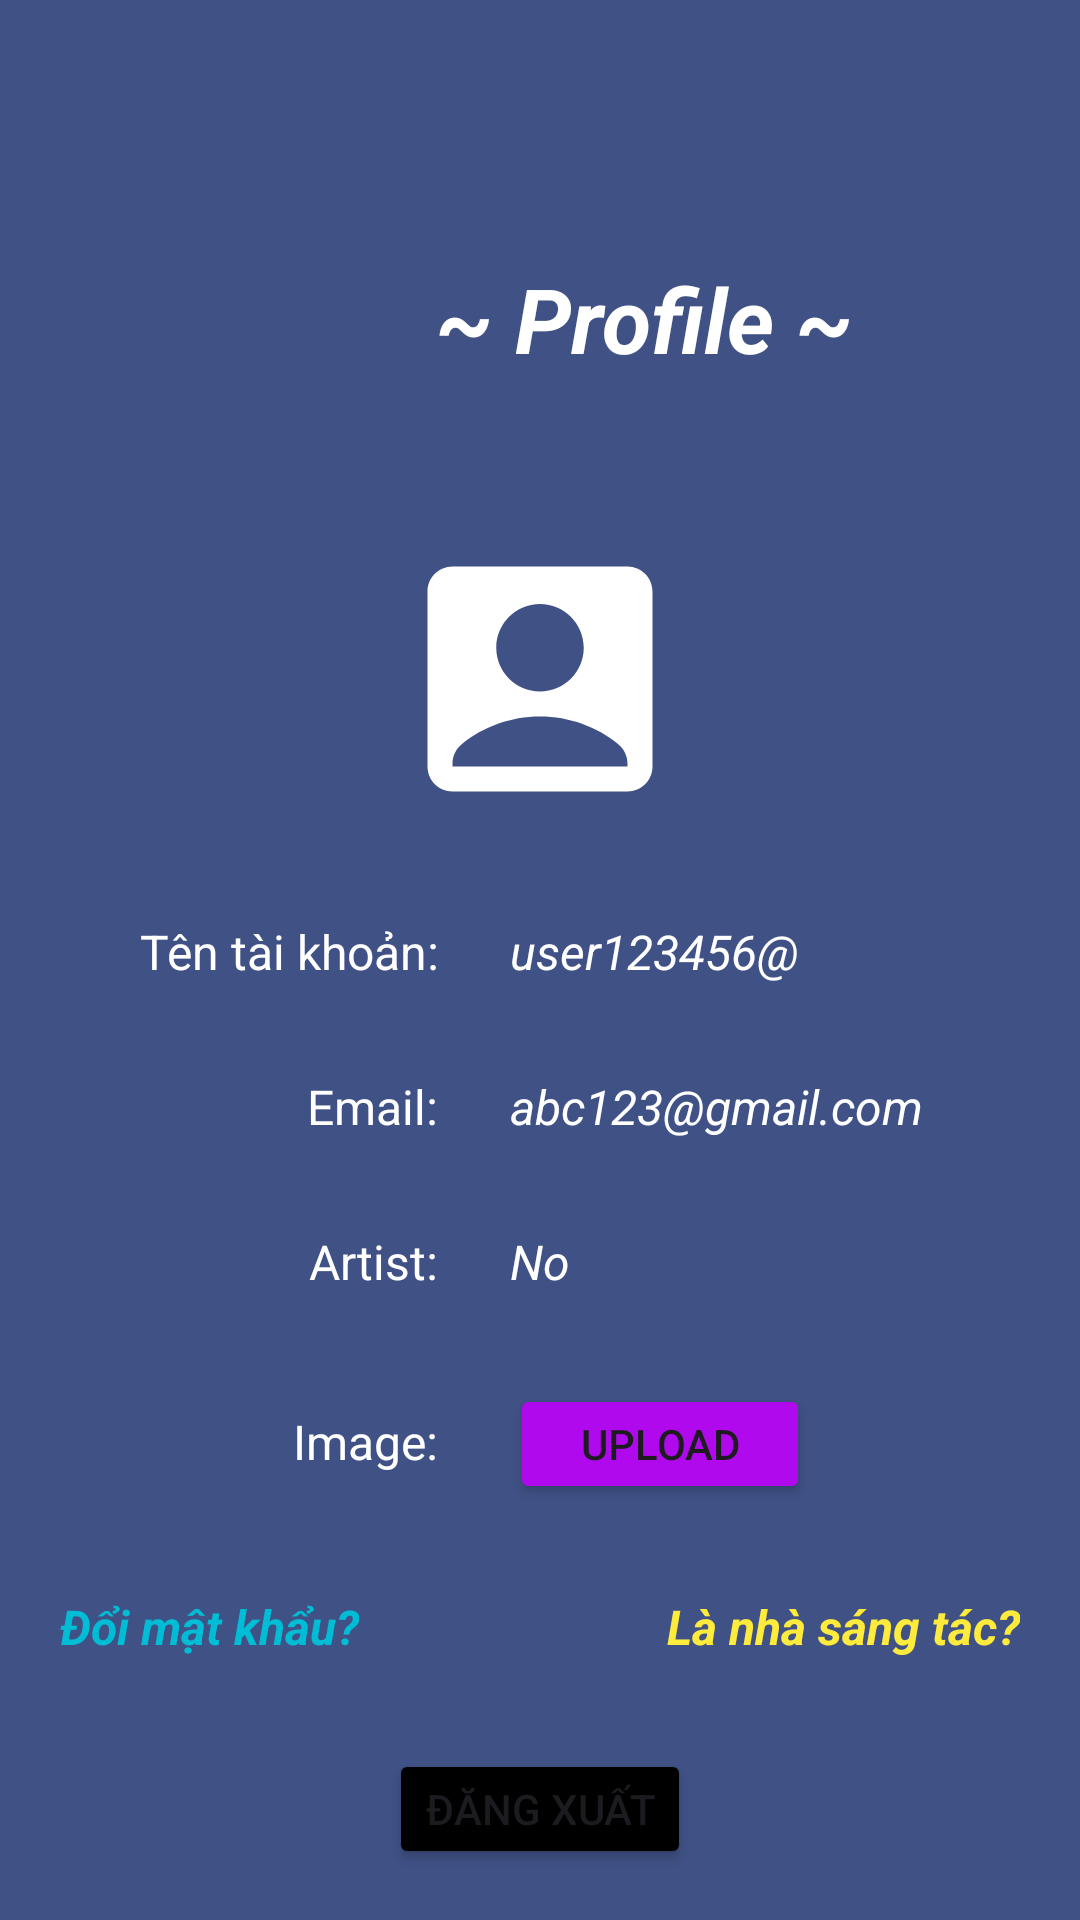

Icon click points for this 1080*1920 phone screenshot, format (x,y):
account box: (540,679)
